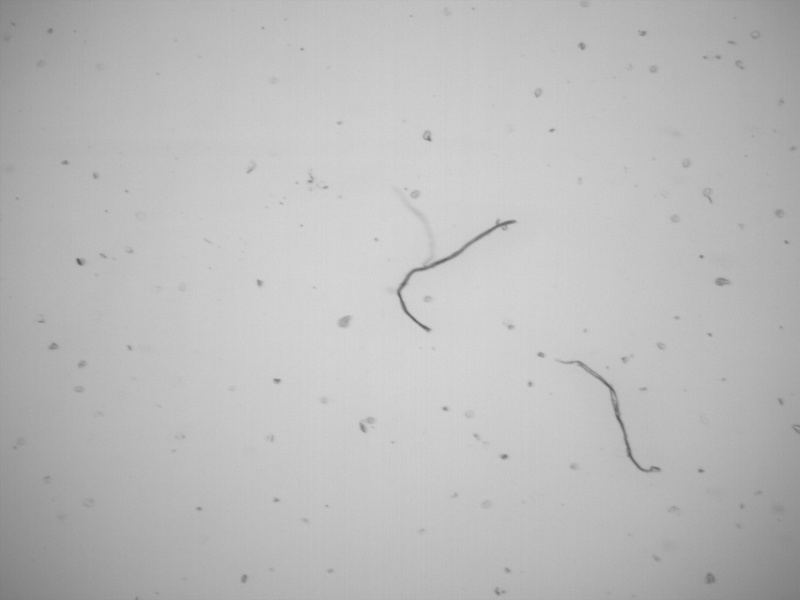fiber: (396, 216, 517, 333), (555, 355, 663, 475), (391, 182, 438, 267)
